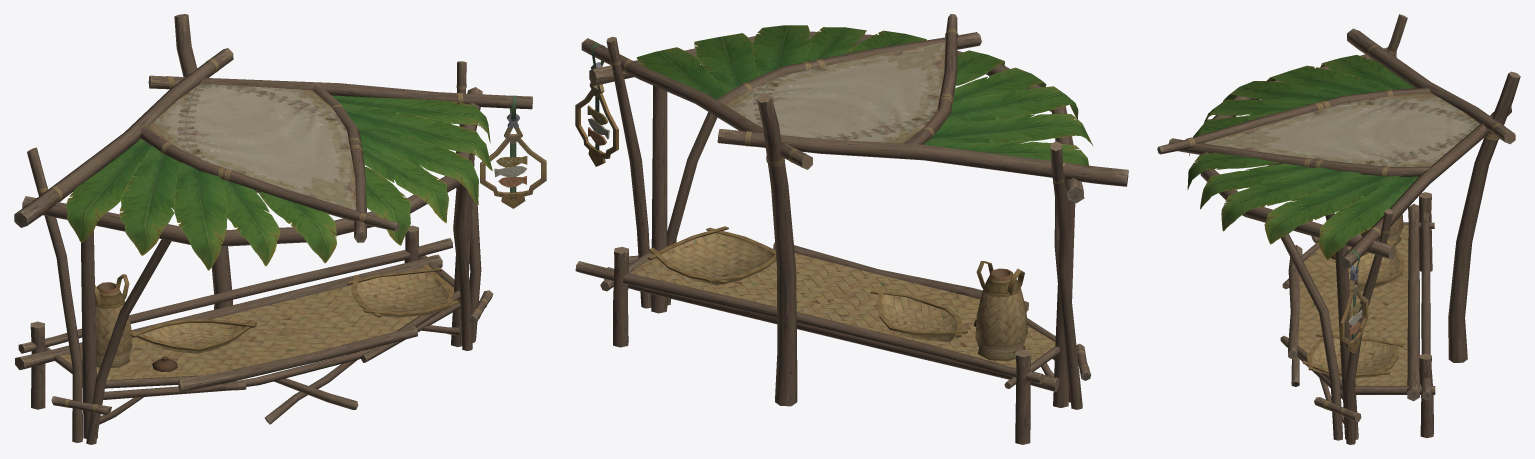
Rendered from Homeworld_Exterior_Xm_Build_WaterStall_01_Lod0.fbx.
The picture shows the model from 3 angles, left to right: view 1: azimuth 30°, elevation 25°; view 2: azimuth 150°, elevation 25°; view 3: azimuth 270°, elevation 25°; orthographic projection. The views are drawn at different scales.
Parts seen in each view (by area): view 1: Area_Xm_Prop_Common_Yewaipengzi_06_Lod0, Area_Xm_Prop_Common_Yewaizhukuang_04_Lod0, Area_Xm_Prop_Common_Yewaizhukuang_03_Lod0, Area_Xm_Prop_Common_Yewaiguanzi_08_Lod0; view 2: Area_Xm_Prop_Common_Yewaipengzi_06_Lod0, Area_Xm_Prop_Common_Yewaizhukuang_04_Lod0, Area_Xm_Prop_Common_Yewaiguanzi_08_Lod0, Area_Xm_Prop_Common_Yewaizhukuang_03_Lod0; view 3: Area_Xm_Prop_Common_Yewaipengzi_06_Lod0, Area_Xm_Prop_Common_Yewaizhukuang_04_Lod0, Area_Xm_Prop_Common_Yewaizhukuang_03_Lod0.
Part boxes in pixels (x1,y1,x2,y2): Area_Xm_Prop_Common_Yewaipengzi_06_Lod0: (14, 14, 546, 444); Area_Xm_Prop_Common_Yewaizhukuang_04_Lod0: (347, 264, 458, 317); Area_Xm_Prop_Common_Yewaizhukuang_03_Lod0: (131, 319, 256, 353); Area_Xm_Prop_Common_Yewaiguanzi_08_Lod0: (95, 274, 177, 371); Area_Xm_Prop_Common_Yewaipengzi_06_Lod0: (575, 14, 1128, 444); Area_Xm_Prop_Common_Yewaizhukuang_04_Lod0: (647, 226, 776, 285); Area_Xm_Prop_Common_Yewaiguanzi_08_Lod0: (974, 261, 1027, 361); Area_Xm_Prop_Common_Yewaizhukuang_03_Lod0: (870, 286, 967, 342); Area_Xm_Prop_Common_Yewaipengzi_06_Lod0: (1157, 14, 1520, 444); Area_Xm_Prop_Common_Yewaizhukuang_04_Lod0: (1302, 330, 1403, 377); Area_Xm_Prop_Common_Yewaizhukuang_03_Lod0: (1348, 239, 1404, 291).
Bounding box in the file's own units: 4.57 × 2.68 × 3.03.
Materials: 3 (3 with a texture image).
